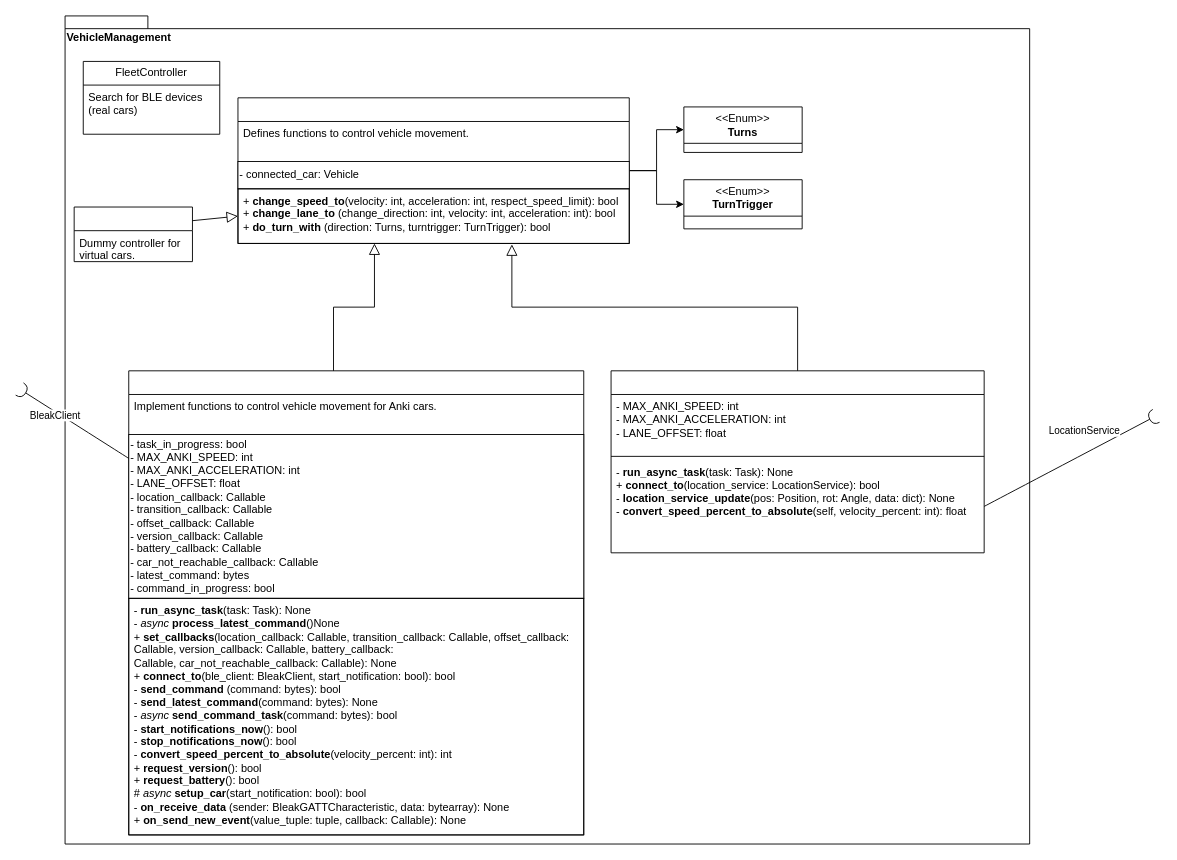
This 1177x860 diagram has some shape labels left out. The shapes that lost their labels are listed below. From the top down, each one's box as (x1, y1, x2, y2) in pixels, then its label:
(237, 97, 629, 243): VehicleController
(73, 206, 192, 262): EmptyController
(610, 370, 984, 553): LocationServiceController
(128, 370, 584, 835): AnkiController
